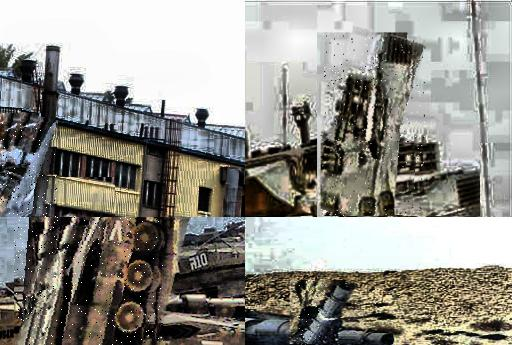tanks: (322, 36, 426, 217), (20, 218, 164, 345), (108, 224, 246, 300), (7, 125, 58, 218), (292, 283, 358, 345)
